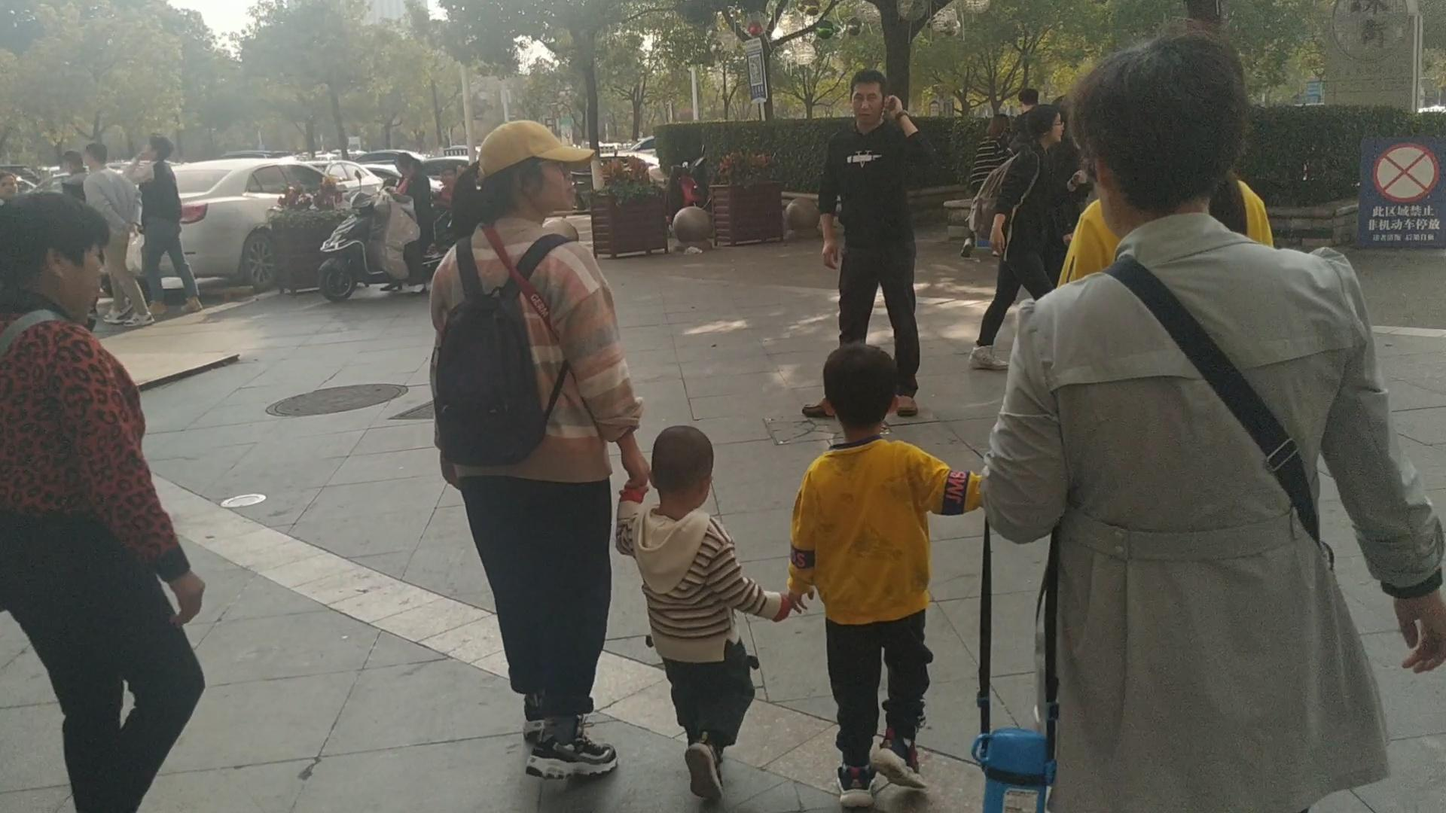car: (171, 157, 346, 291), (343, 151, 465, 257), (615, 137, 663, 175), (0, 166, 39, 199)
